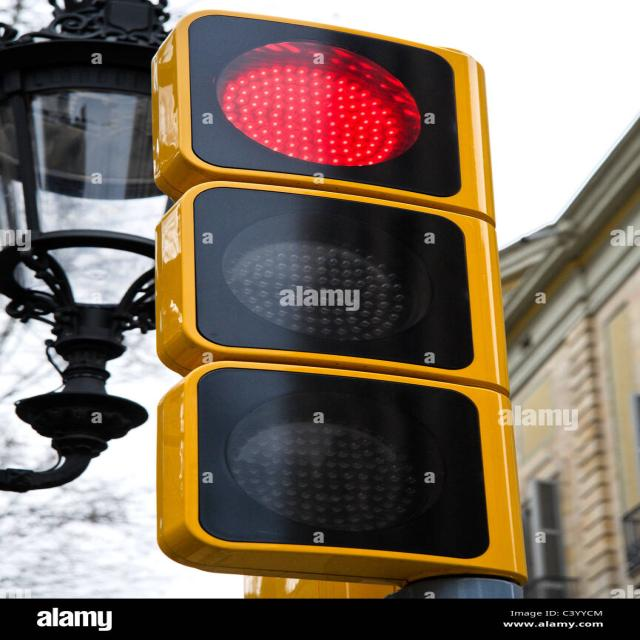red: (210, 22, 448, 181)
